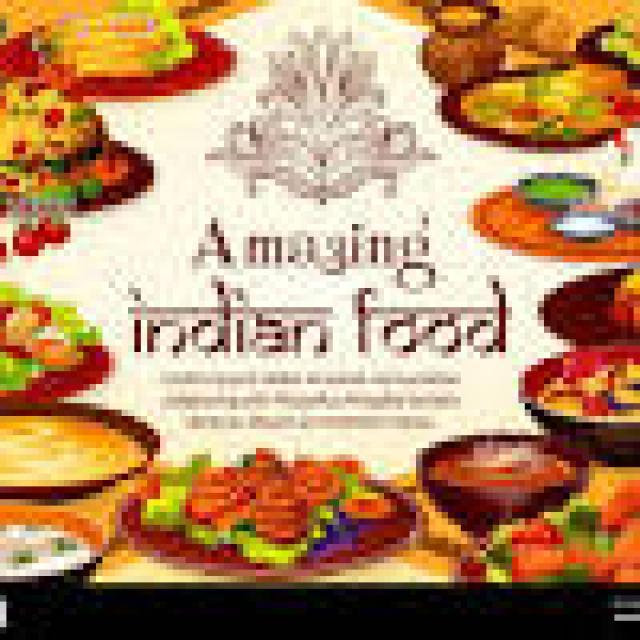dal: (17, 3, 213, 96), (447, 56, 625, 150), (0, 294, 118, 392)
pickle: (533, 268, 636, 357)
sweet: (530, 268, 637, 353), (529, 348, 637, 431)
veg-fry: (0, 93, 162, 225)
